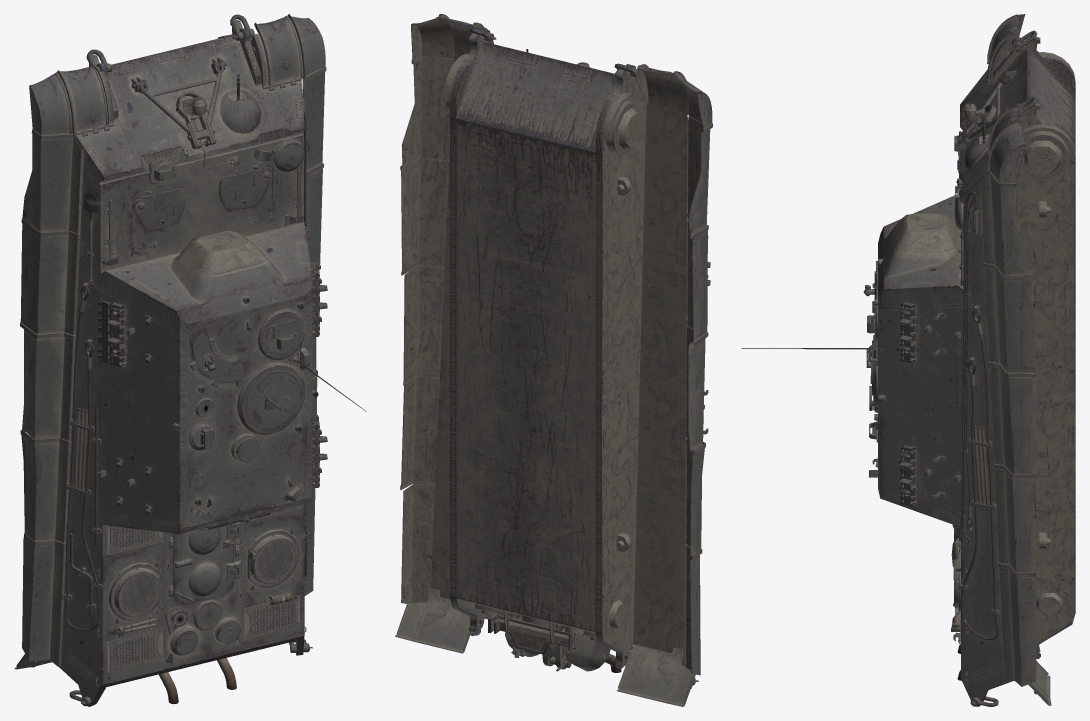
File: Hull.glb
3 views of the same model, side by side, from view 1: azimuth 30°, elevation 25°; view 2: azimuth 150°, elevation 25°; view 3: azimuth 270°, elevation 25° (orthographic). The views are drawn at different scales.
Visible parts, largest first — view 1: set_0_group_0; view 2: set_0_group_0; view 3: set_0_group_0.
Part boxes in pixels (<box>): set_0_group_0: <box>14,14,366,706</box>; set_0_group_0: <box>395,14,712,706</box>; set_0_group_0: <box>741,14,1075,706</box>.
Bounding box in the file's own units: 3.79 × 7.95 × 4.01.
Materials: 1 (1 with a texture image).
